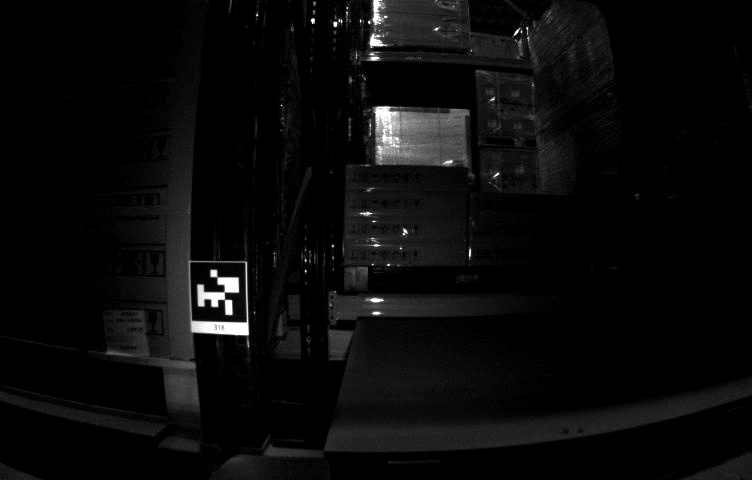True Barcode: (102, 302, 147, 353)
